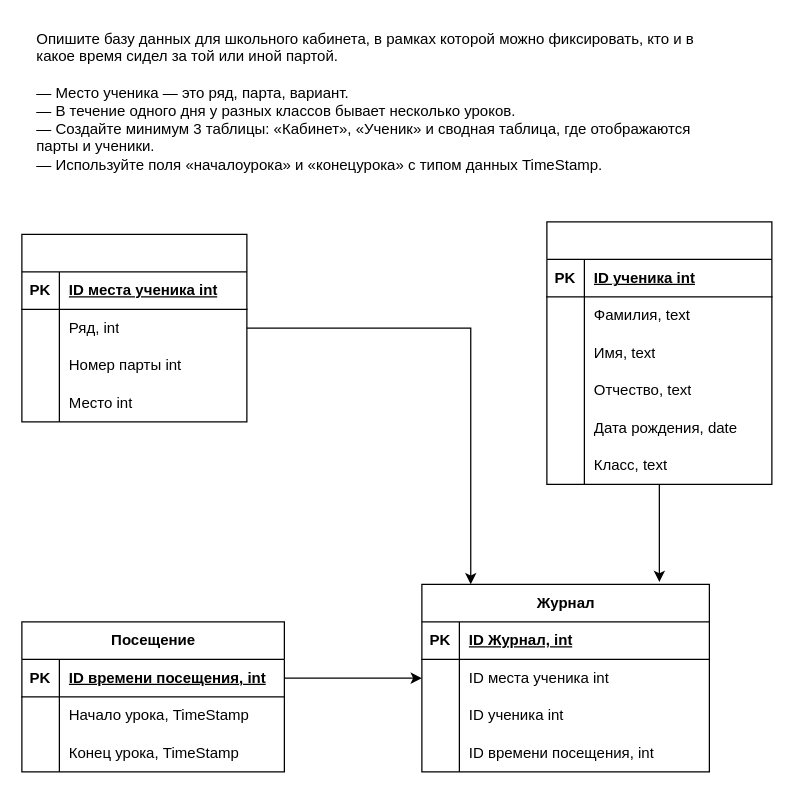
The diagram is 794 pixels wide and 794 high, and some of its shapes have lost their labels. The box of each missing label's shape, as (x1, y1, x2, y2) in pixels:
Класс: (21, 233, 247, 422)
Ученики: (546, 221, 772, 484)
